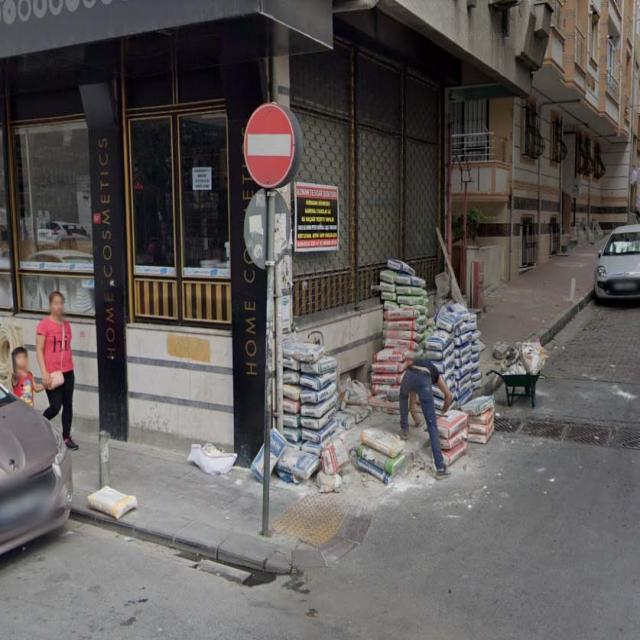girisyok: (243, 103, 294, 187)
